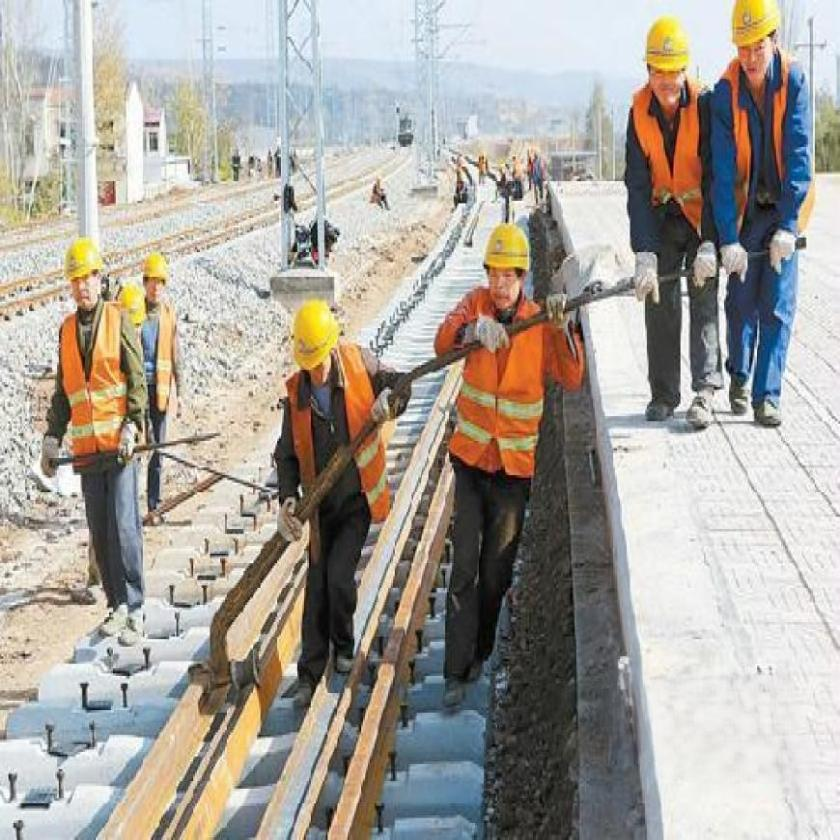Con_casco: (727, 0, 785, 83), (484, 218, 532, 312), (645, 17, 693, 107), (60, 235, 104, 310)
